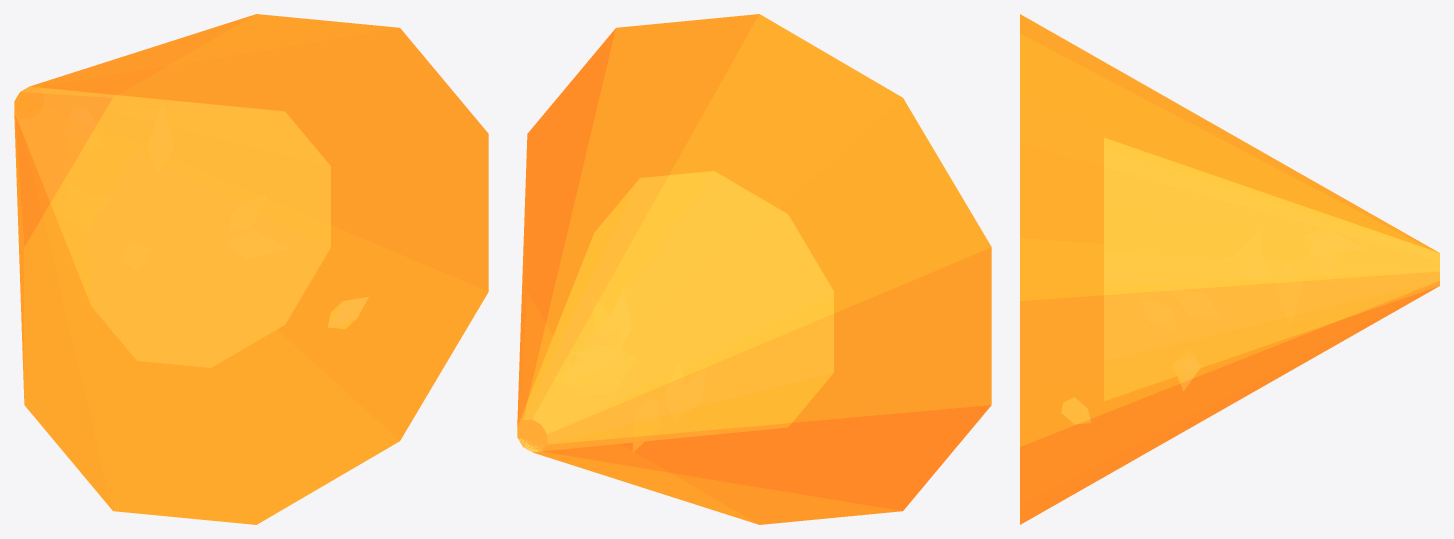
3 renders of one model, left to right at view 1: azimuth 30°, elevation 25°; view 2: azimuth 150°, elevation 25°; view 3: azimuth 270°, elevation 25°, orthographic. The views are drawn at different scales.
Parts seen in each view (by area): view 1: fx_cone_x; view 2: fx_cone_x; view 3: fx_cone_x.
Part boxes in pixels (left/top/right/bottom): fx_cone_x: left=14, top=14, right=488, bottom=524; fx_cone_x: left=517, top=14, right=991, bottom=524; fx_cone_x: left=1020, top=14, right=1439, bottom=524.
Size of the model in its own units: 1.18 by 1.24 by 1.
